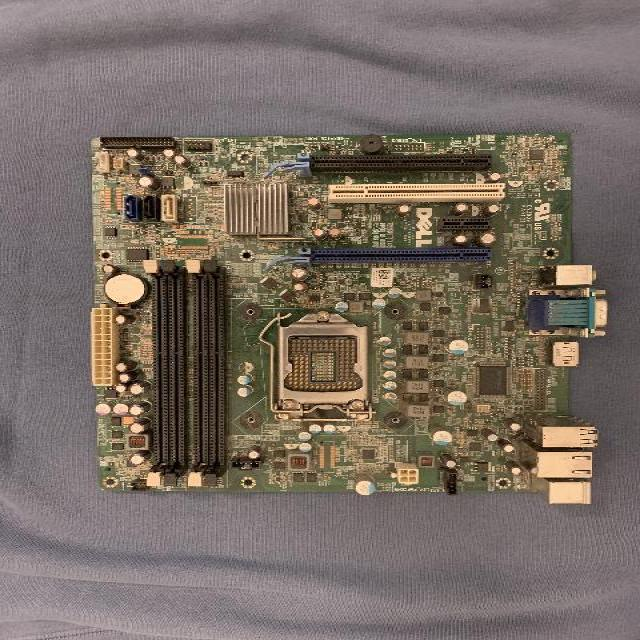Mainboard: (92, 135, 609, 506)
